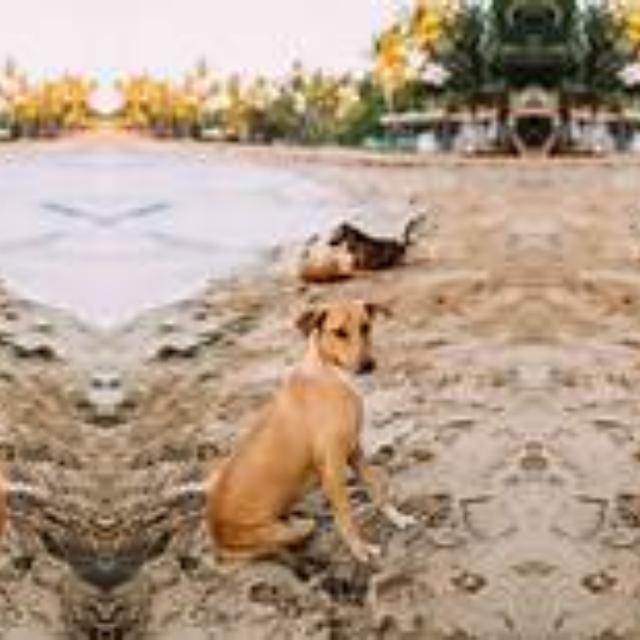dog: (230, 301, 439, 640), (626, 301, 640, 640)
